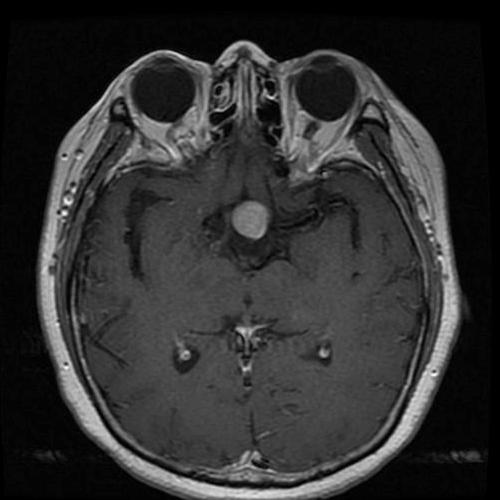Tumour-Pituitary: (227, 196, 277, 247)
